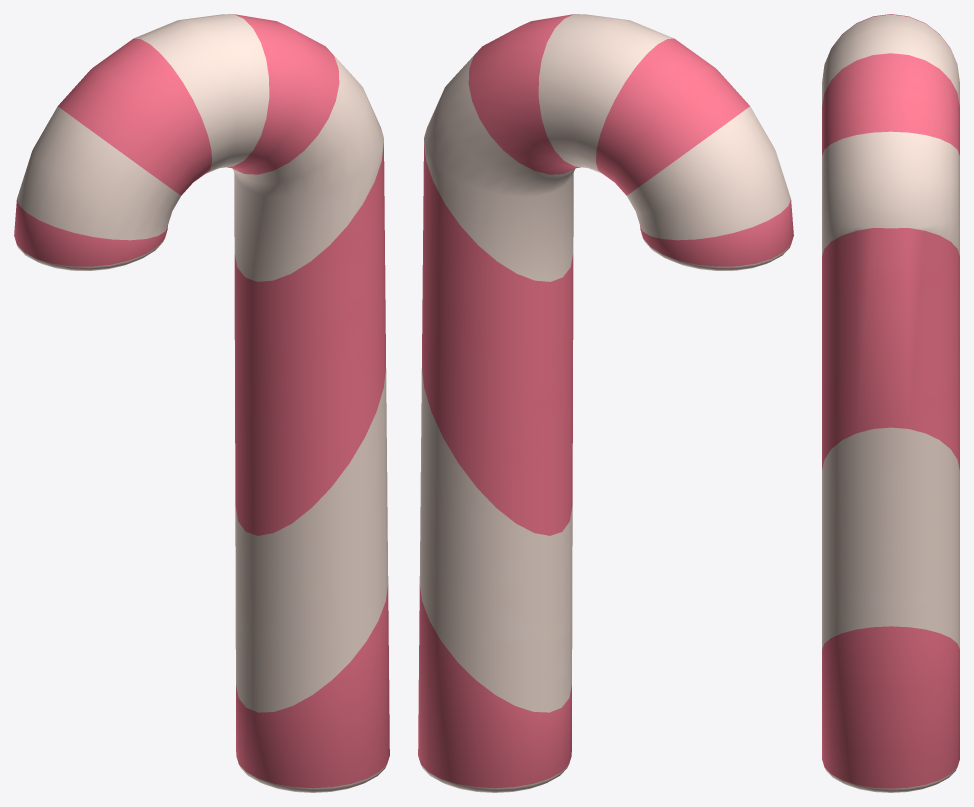
File: Candy.fbx
3 renders of one model, left to right at view 1: azimuth 30°, elevation 25°; view 2: azimuth 150°, elevation 25°; view 3: azimuth 270°, elevation 25°, orthographic. The views are drawn at different scales.
Visible parts, largest first — view 1: Cylinder.002; view 2: Cylinder.002; view 3: Cylinder.002.
Boxes of the visible parts, x1,y1,x2,y2 form: Cylinder.002: [14, 14, 389, 792]; Cylinder.002: [418, 14, 793, 792]; Cylinder.002: [822, 14, 959, 792].
Size of the model in its own units: 318 by 660 by 119.
